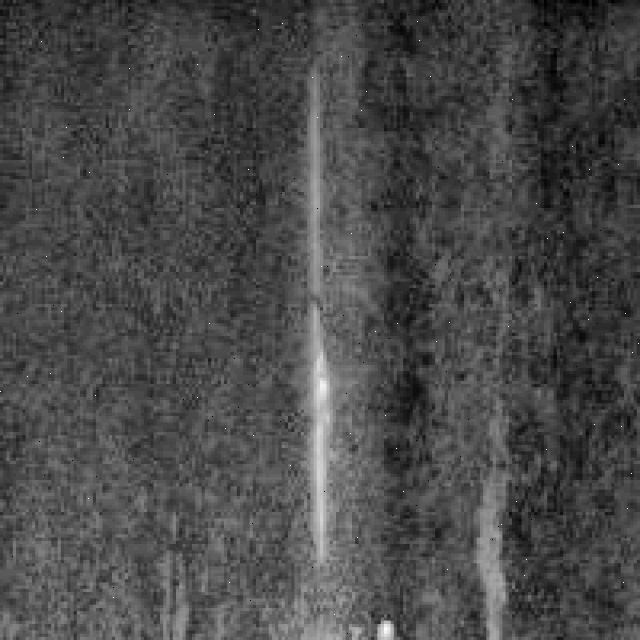Inclusion: (304, 73, 349, 560)
